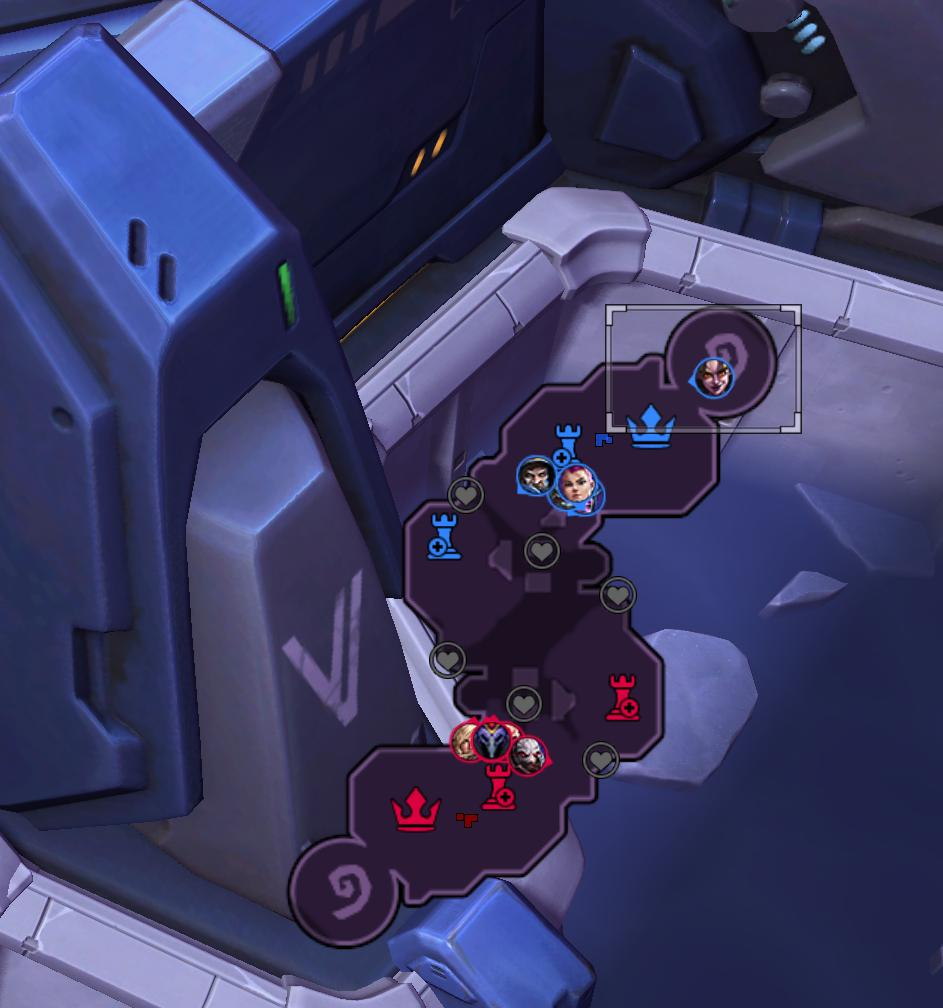blue nexus: (615, 399, 684, 452)
blue player: (554, 462, 598, 504), (515, 454, 558, 496), (695, 358, 733, 397)
blue tower: (416, 505, 472, 570)
red nexus: (385, 779, 445, 841)
red player: (508, 734, 552, 779), (472, 720, 512, 761), (450, 724, 488, 763)
red tower: (597, 667, 651, 724)
